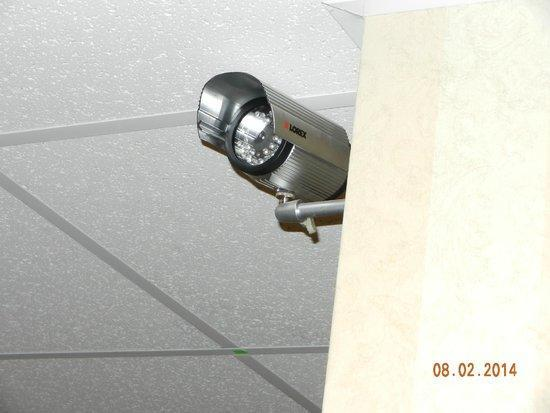CCTV: (197, 72, 351, 235)
